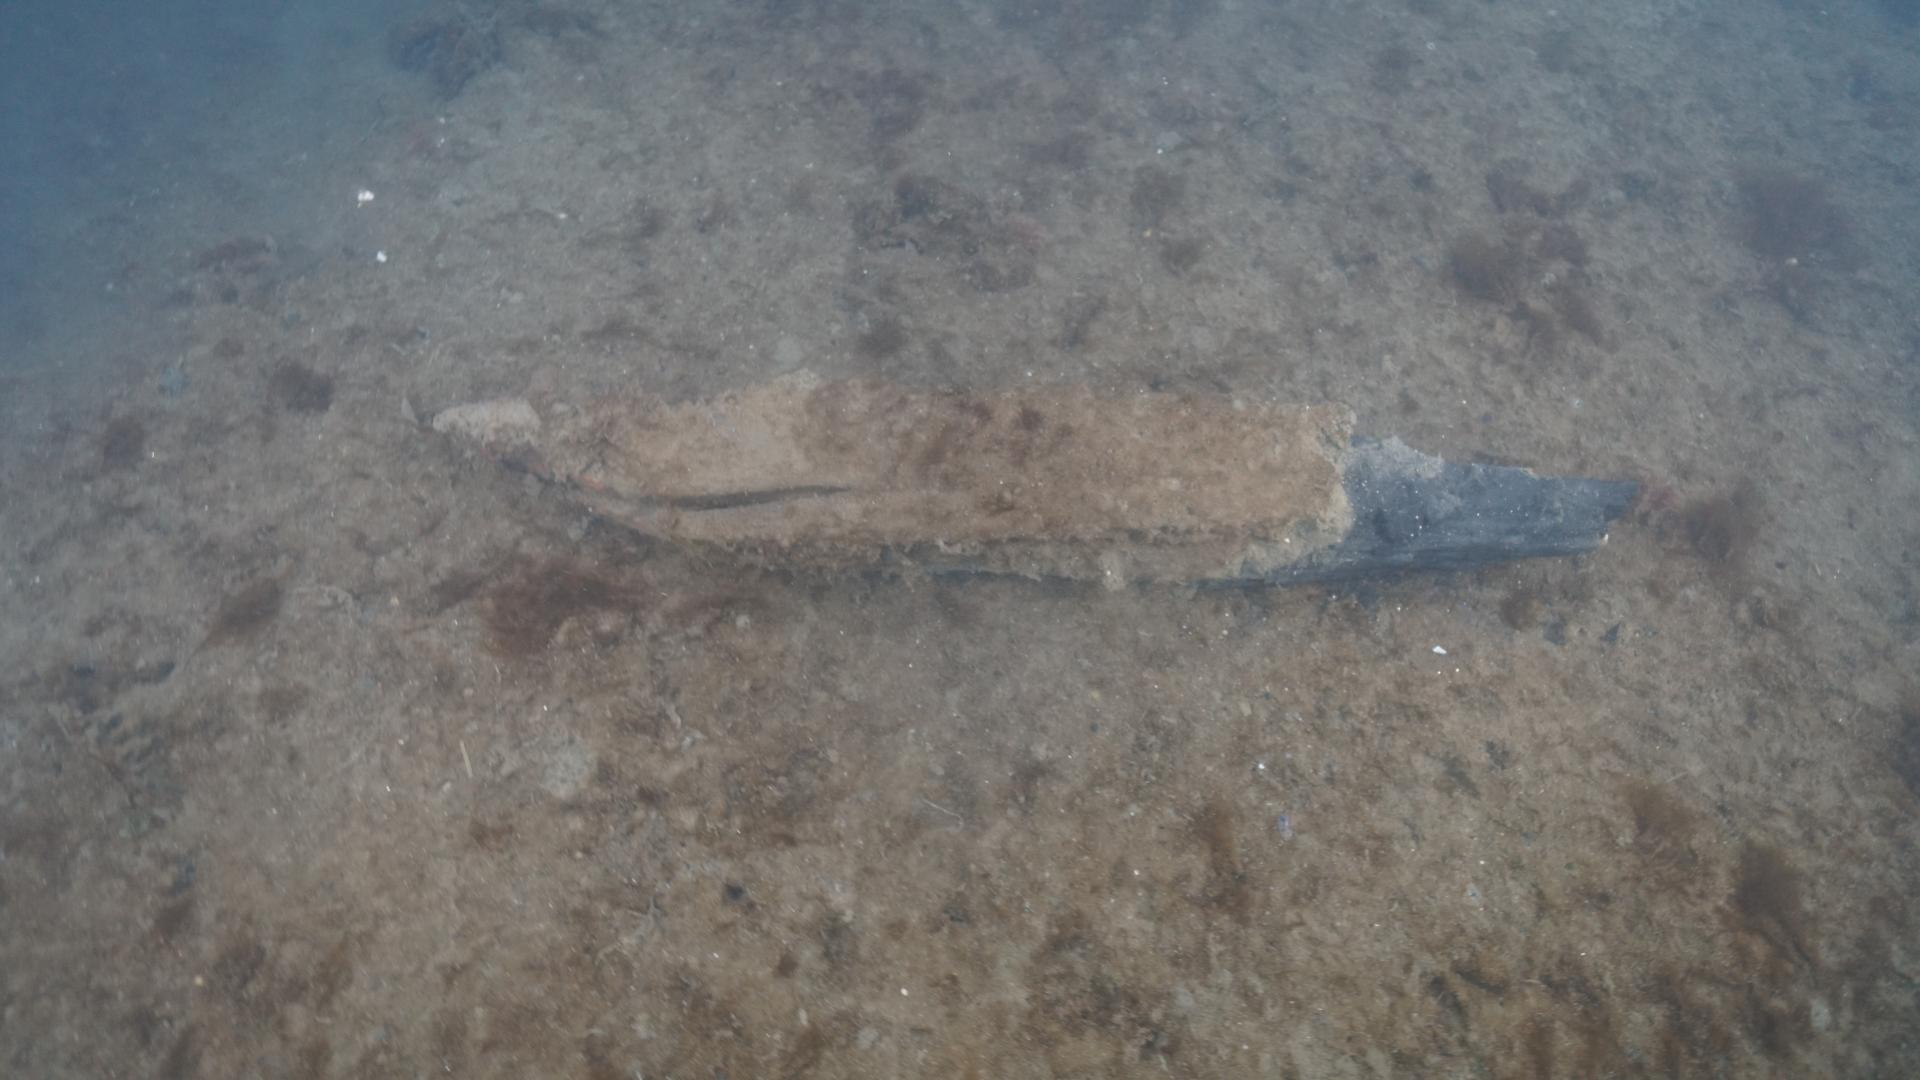wood: (429, 396, 1646, 599)
